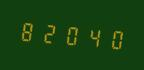eight: (18, 15, 38, 47)
four: (81, 20, 101, 52)
two: (39, 17, 59, 48)
zero: (102, 22, 122, 54), (60, 19, 80, 50)
